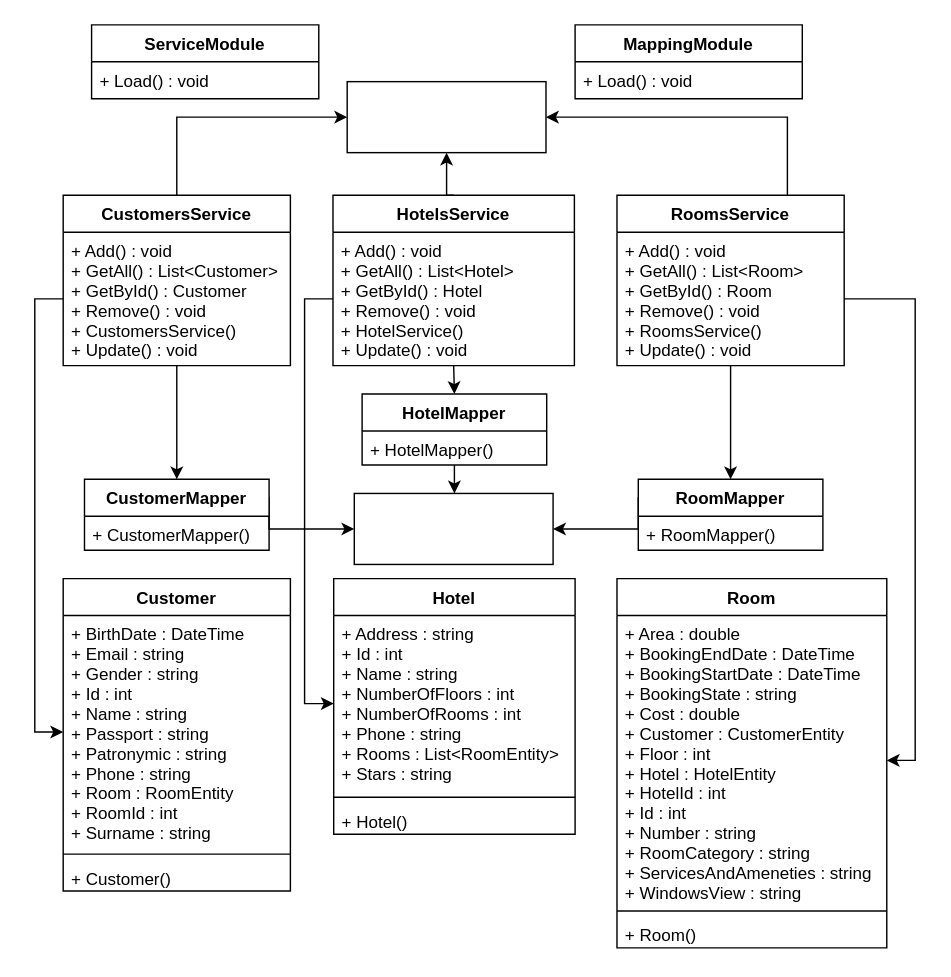
This 951x977 diagram has some shape labels left out. The centre of each missing label's shape, as x and y in pixels:
«interface» IMapper: the point at 453,528
«interface» IService<TDomain>: the point at 446,116
